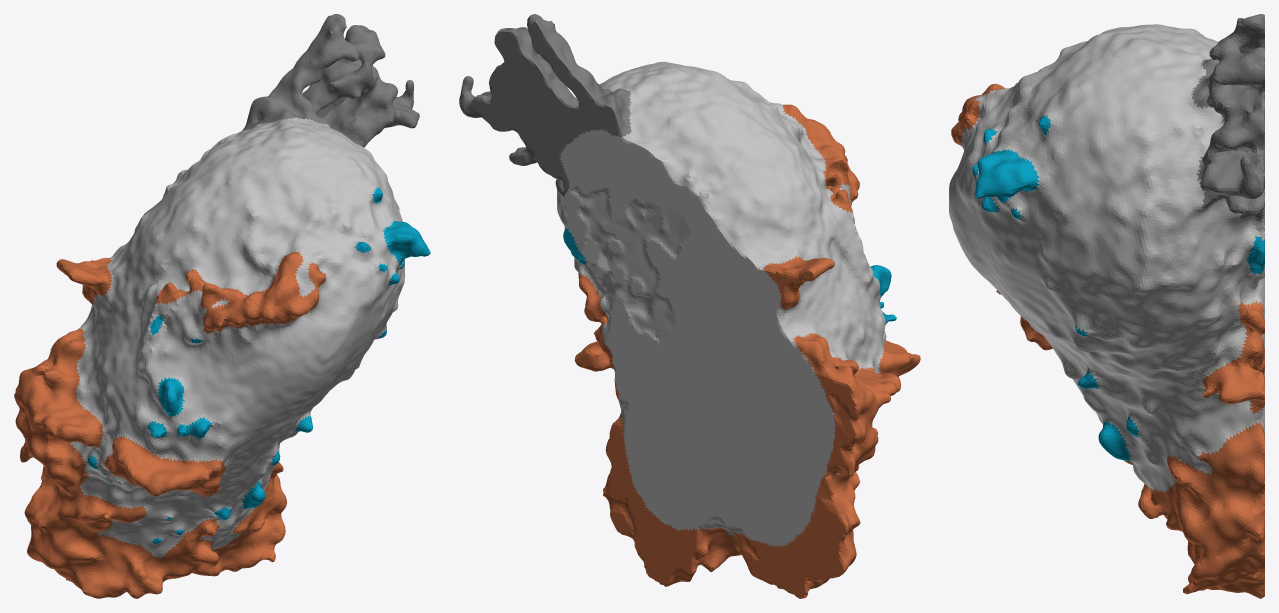
The picture shows the model from 3 angles, left to right: view 1: azimuth 30°, elevation 25°; view 2: azimuth 150°, elevation 25°; view 3: azimuth 270°, elevation 25°; orthographic projection. The views are drawn at different scales.
Bounding box in the file's own units: 133 × 166 × 71.83.
